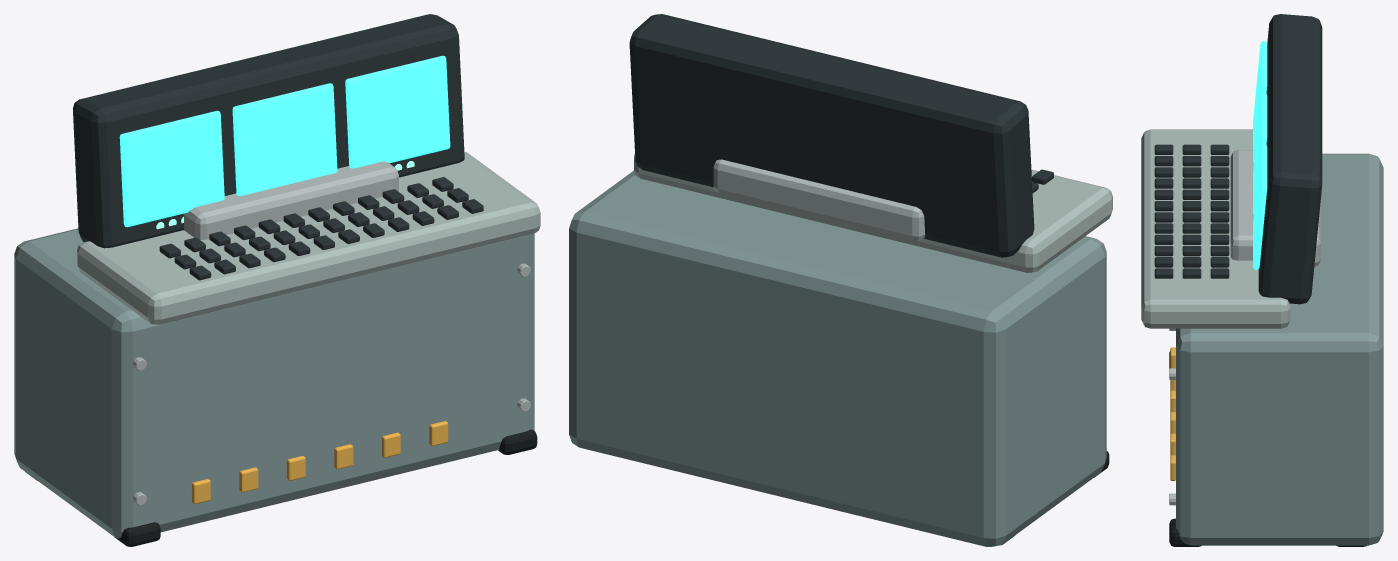
Rendered from Console de contrôle informatique.glb.
The picture shows the model from 3 angles, left to right: view 1: azimuth 30°, elevation 25°; view 2: azimuth 150°, elevation 25°; view 3: azimuth 270°, elevation 25°; orthographic projection. The views are drawn at different scales.
Parts seen in each view (by area): view 1: CONSOLE_Base, CONSOLE_Screen_Back, CONSOLE_Desk, CONSOLE_Screen_1, CONSOLE_Screen_3, CONSOLE_Screen_2, CONSOLE_Centered_Upper_Support, CONSOLE_Foot_-1_-1, CONSOLE_Foot_1_-1; view 2: CONSOLE_Base, CONSOLE_Screen_Back, CONSOLE_Desk, CONSOLE_Centered_Upper_Support; view 3: CONSOLE_Base, CONSOLE_Screen_Back, CONSOLE_Desk, CONSOLE_Centered_Upper_Support, CONSOLE_Screen_3, CONSOLE_Screen_2, CONSOLE_Screen_1, CONSOLE_Foot_1_-1.
Part boxes in pixels (box(x1,y1,x2,y2)): CONSOLE_Base: box(14, 228, 534, 538); CONSOLE_Screen_Back: box(73, 14, 464, 248); CONSOLE_Desk: box(77, 152, 540, 324); CONSOLE_Screen_1: box(119, 110, 224, 227); CONSOLE_Screen_3: box(345, 55, 450, 168); CONSOLE_Screen_2: box(232, 83, 337, 195); CONSOLE_Centered_Upper_Support: box(183, 161, 398, 239); CONSOLE_Foot_-1_-1: box(114, 522, 160, 546); CONSOLE_Foot_1_-1: box(498, 429, 537, 454); CONSOLE_Base: box(569, 170, 1106, 546); CONSOLE_Screen_Back: box(629, 14, 1034, 257); CONSOLE_Desk: box(634, 154, 1112, 272); CONSOLE_Centered_Upper_Support: box(713, 159, 925, 240); CONSOLE_Base: box(1176, 153, 1383, 545); CONSOLE_Screen_Back: box(1258, 14, 1322, 304); CONSOLE_Desk: box(1141, 129, 1290, 328); CONSOLE_Centered_Upper_Support: box(1230, 150, 1320, 266); CONSOLE_Screen_3: box(1253, 143, 1267, 269); CONSOLE_Screen_2: box(1253, 92, 1267, 214); CONSOLE_Screen_1: box(1253, 41, 1267, 163); CONSOLE_Foot_1_-1: box(1169, 518, 1201, 546).
Size of the model in its own units: 1.7 by 1.5 by 0.91.
